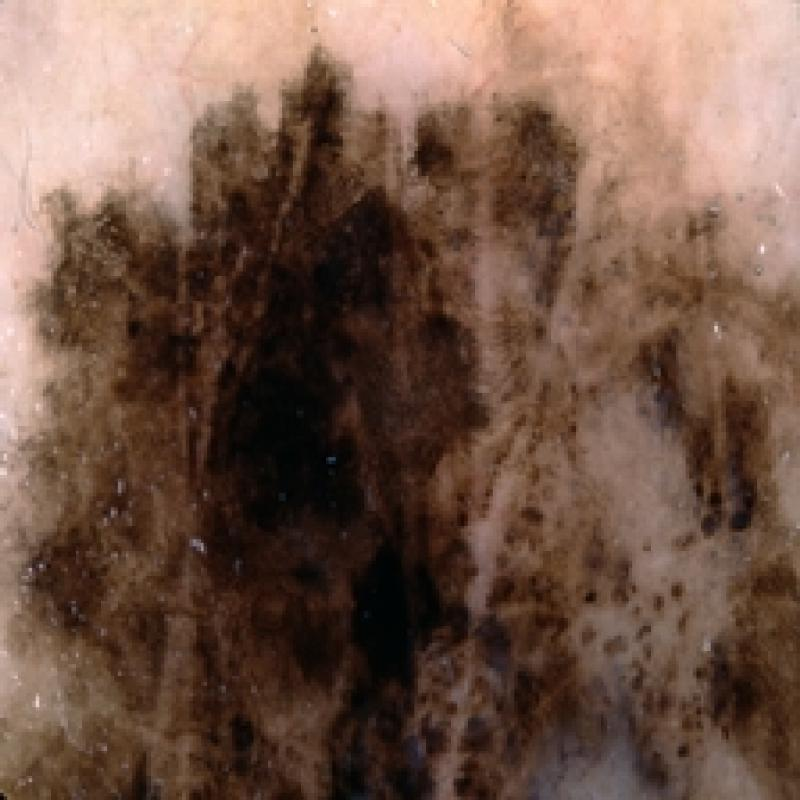malignant: (25, 68, 791, 772)
